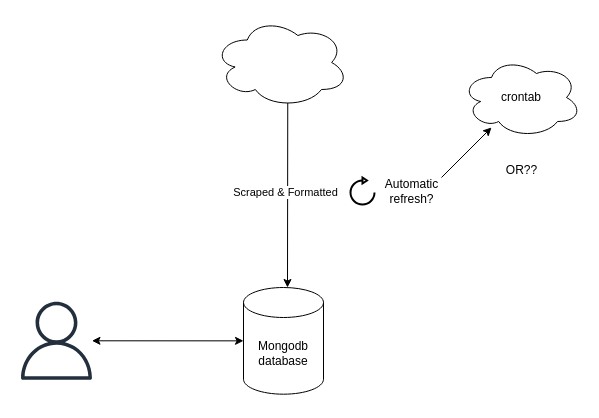
Some shapes in this 599 by 418 pixel diagram are drawn without their labels. The box of each missing label's shape, as (x1, y1, x2, y2) in pixels:
End-user: (17, 301, 95, 379)
Player Data (Canada West): (212, 16, 348, 108)
